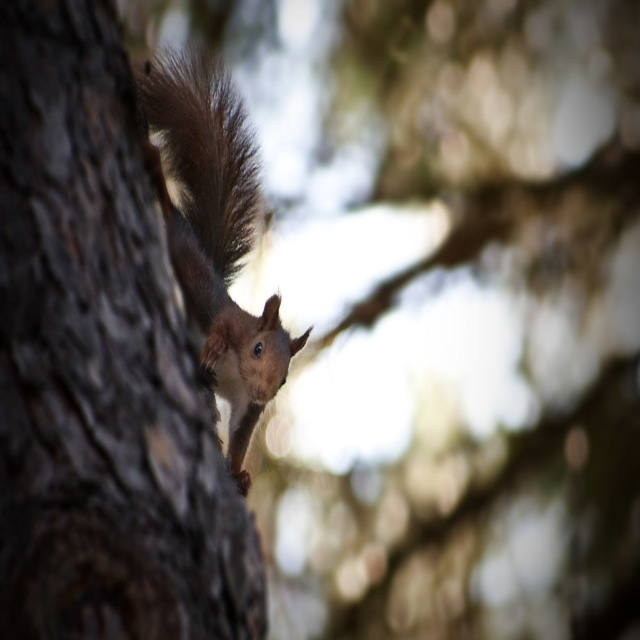Squirrel: (136, 43, 314, 498)
